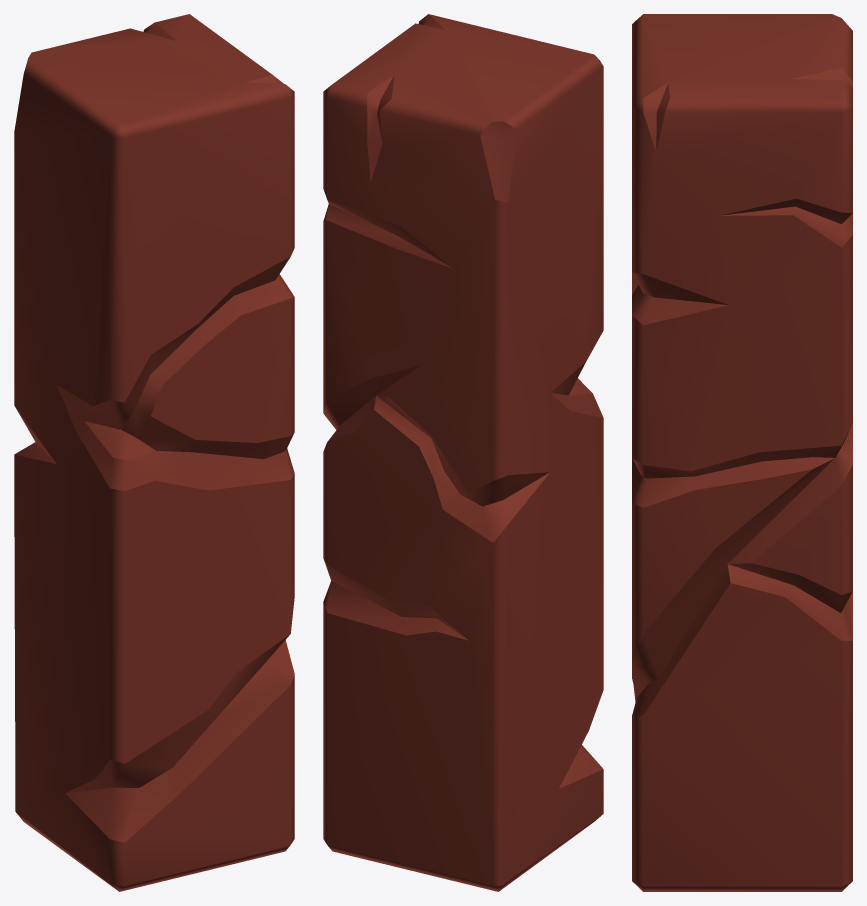
Rendered from pillar_001.fbx.
The picture shows the model from 3 angles, left to right: view 1: azimuth 30°, elevation 25°; view 2: azimuth 150°, elevation 25°; view 3: azimuth 270°, elevation 25°; orthographic projection. The views are drawn at different scales.
Parts seen in each view (by area): view 1: pillar_001; view 2: pillar_001; view 3: pillar_001.
Boxes of the visible parts, left/top/right/bottom form: pillar_001: left=14, top=14, right=294, bottom=891; pillar_001: left=323, top=14, right=603, bottom=891; pillar_001: left=632, top=14, right=852, bottom=891.
Size of the model in its own units: 200 by 200 by 794.
